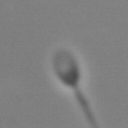normal: (72, 84, 101, 128)
